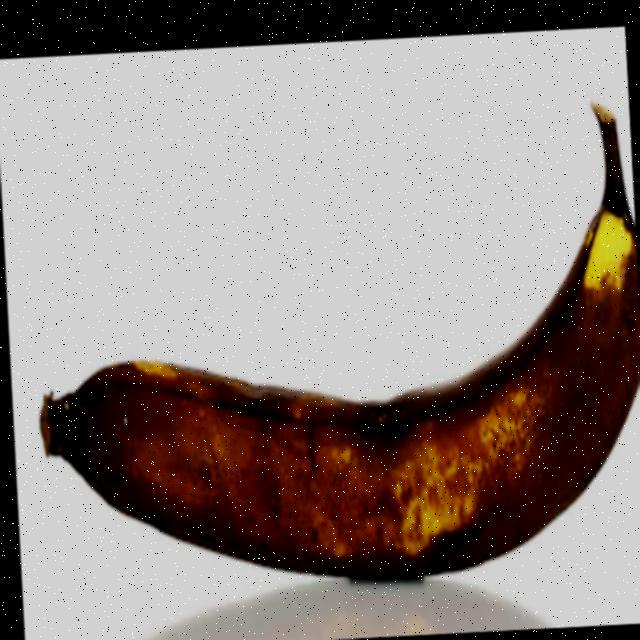Rotten: (0, 89, 640, 618)
